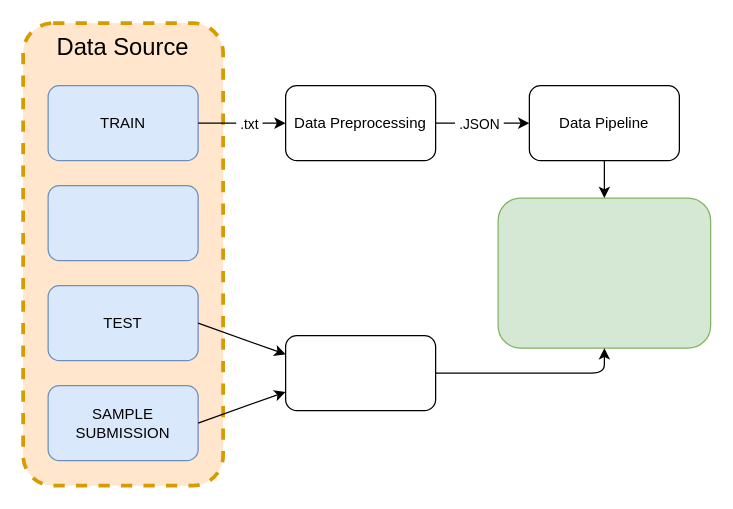
This 733x509 diagram has some shape labels left out. The centre of each missing label's shape, as x and y in pixels:
"Experiments" goes at point (604, 272).
"META DATA" goes at point (122, 222).
"Test Preprocessing" goes at point (360, 372).
